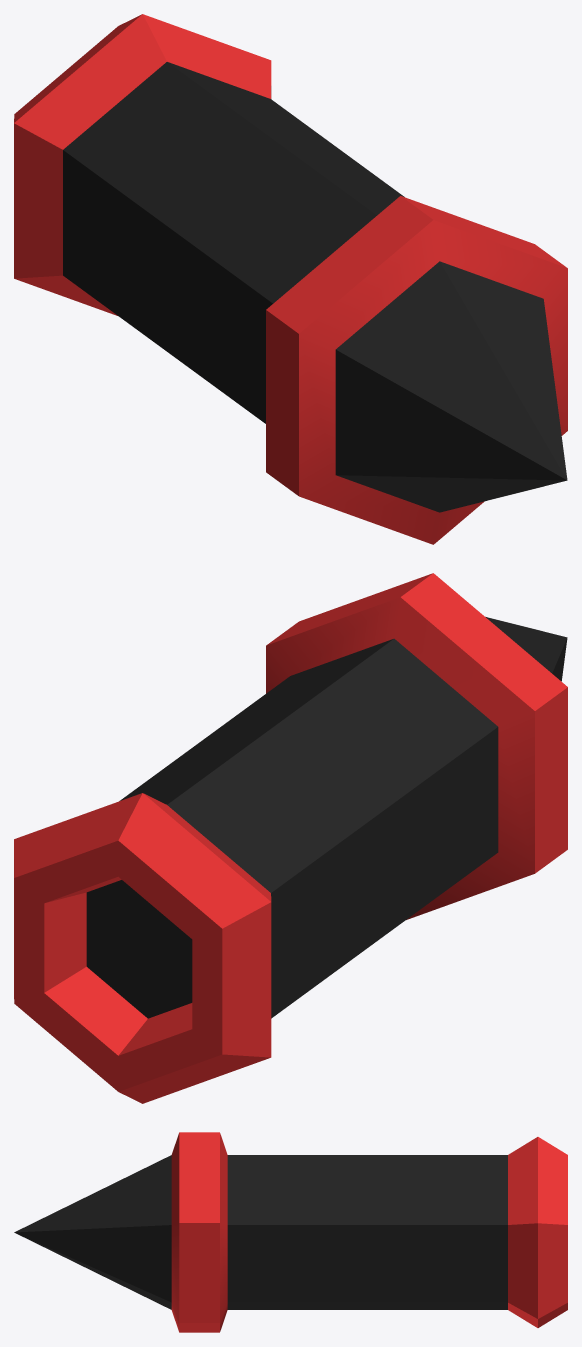
Rendered from Ammo.glb.
The picture shows the model from 3 angles, top to bottom: view 1: azimuth 30°, elevation 25°; view 2: azimuth 150°, elevation 25°; view 3: azimuth 270°, elevation 25°; orthographic projection. The views are drawn at different scales.
Parts seen in each view (by area): view 1: Ammo; view 2: Ammo; view 3: Ammo.
Part boxes in pixels (x1=…): Ammo: x1=14, y1=14, x2=567, y2=544; Ammo: x1=14, y1=573, x2=567, y2=1103; Ammo: x1=14, y1=1132, x2=567, y2=1332.
Bounding box in the file's own units: 0.2021 × 0.2334 × 0.5847.
